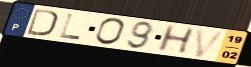9: (126, 21, 157, 51)
D: (26, 7, 60, 38)
H: (154, 24, 198, 55)
L: (58, 13, 83, 41)
O: (93, 17, 127, 47)
V: (193, 28, 228, 59)
